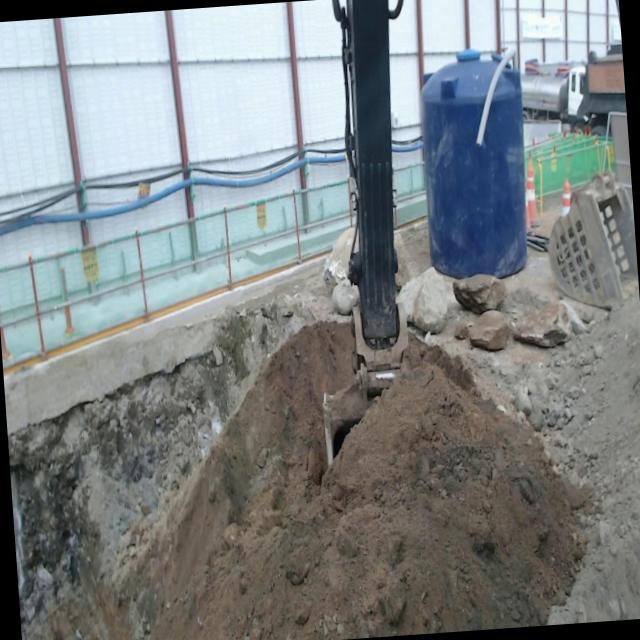cement: (3, 259, 319, 438)
red-sand: (38, 289, 640, 640)
stone: (396, 267, 447, 333), (323, 228, 359, 313), (510, 302, 569, 347), (452, 274, 505, 313), (468, 310, 510, 350), (395, 235, 411, 290)
